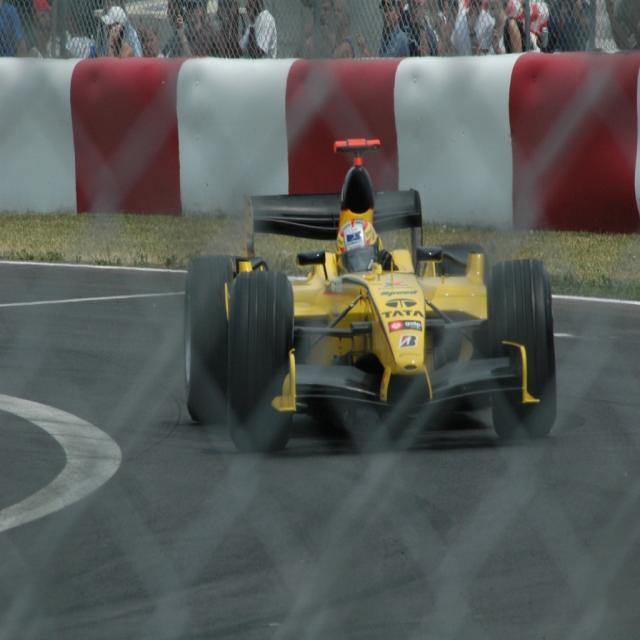car: (246, 180, 550, 445)
